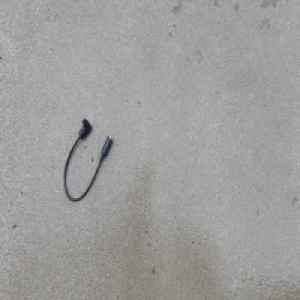Wire: (62, 116, 113, 204)
